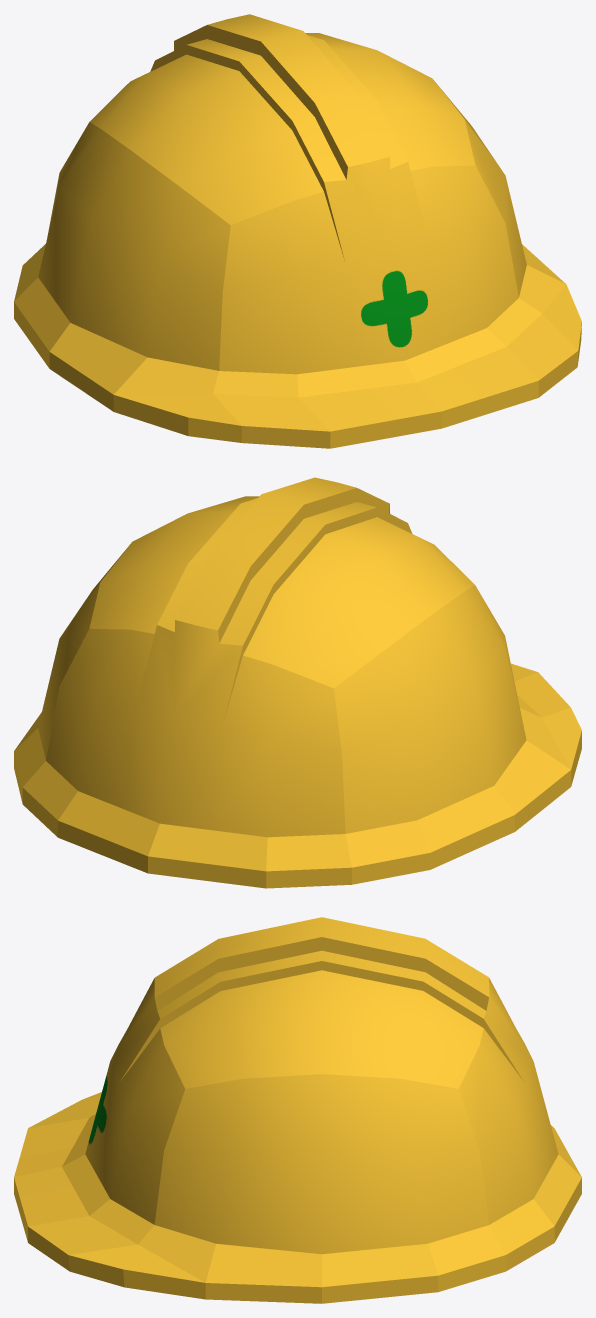
Rendered from Hel_2.fbx.
3 renders of one model, top to bottom at view 1: azimuth 30°, elevation 25°; view 2: azimuth 150°, elevation 25°; view 3: azimuth 270°, elevation 25°, orthographic. The views are drawn at different scales.
Parts seen in each view (by area): view 1: Box001; view 2: Box001; view 3: Box001.
Boxes of the visible parts, box(x1,y1,x2,y2) form: Box001: box(14, 14, 581, 448); Box001: box(14, 477, 581, 888); Box001: box(14, 917, 581, 1303).
Bounding box in the file's own units: 110 × 62.44 × 120.
1 material, 1 textured.
